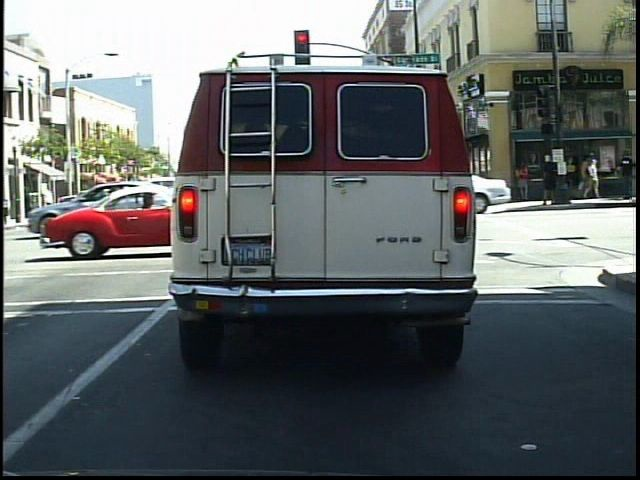person: (613, 141, 636, 209), (539, 151, 562, 208), (514, 156, 534, 191)
